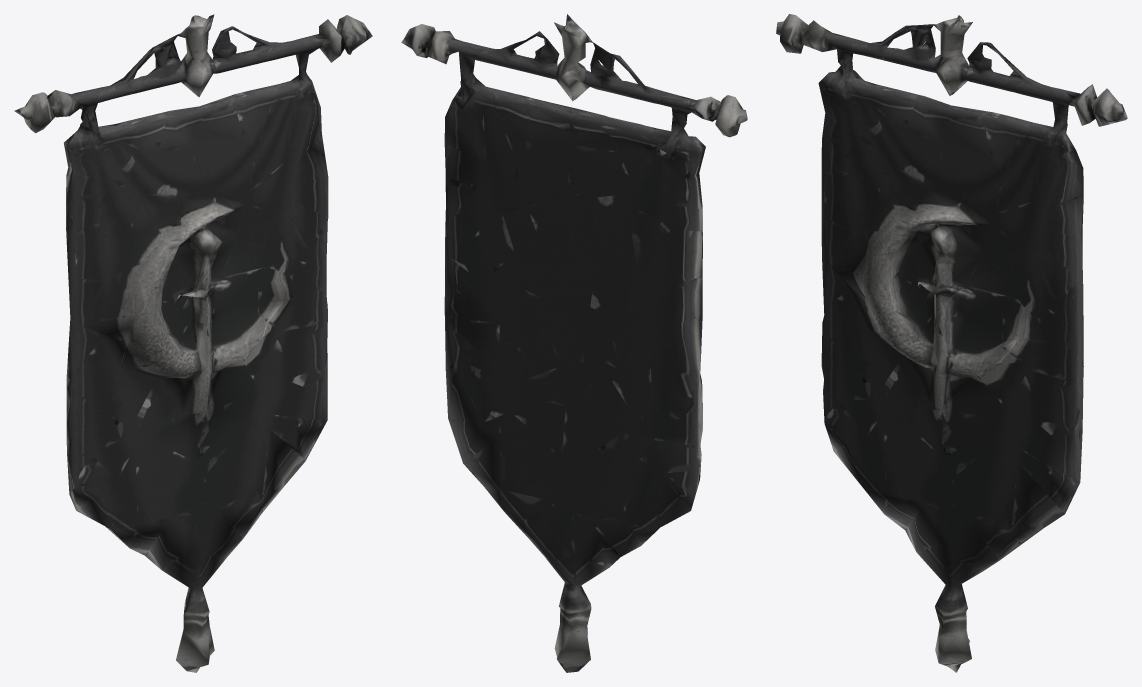
File: family_banner_purple.glb
3 views of the same model, side by side, from view 1: azimuth 30°, elevation 25°; view 2: azimuth 150°, elevation 25°; view 3: azimuth 330°, elevation 25° (orthographic).
Size of the model in its own units: 1.12 by 1.99 by 0.18.
1 material, 1 textured.
